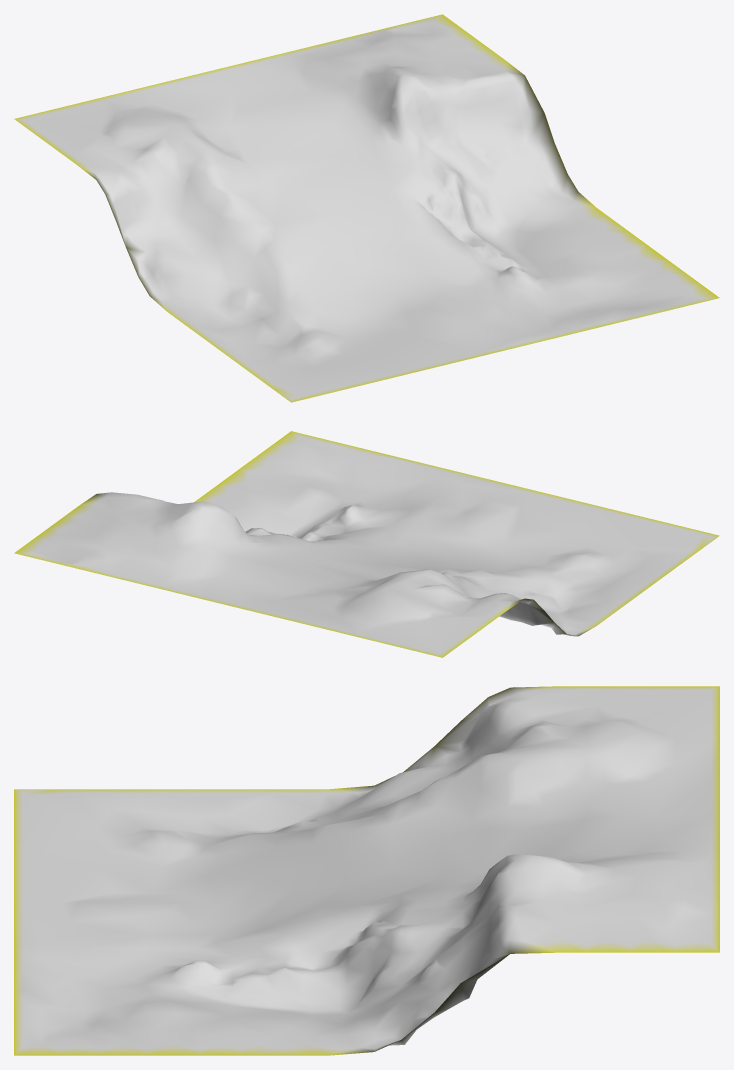
File: S_G1G2_200_corss.fbx
3 renders of one model, top to bottom at view 1: azimuth 30°, elevation 25°; view 2: azimuth 150°, elevation 25°; view 3: azimuth 270°, elevation 25°, orthographic. The views are drawn at different scales.
Visible parts, largest first — view 1: G1G2+G1G2; view 2: G1G2+G1G2; view 3: G1G2+G1G2.
Part boxes in pixels (<box>): G1G2+G1G2: <box>14,14,719,402</box>; G1G2+G1G2: <box>14,431,719,657</box>; G1G2+G1G2: <box>14,686,719,1055</box>.
Bounding box in the file's own units: 10000 × 2528 × 11200.
